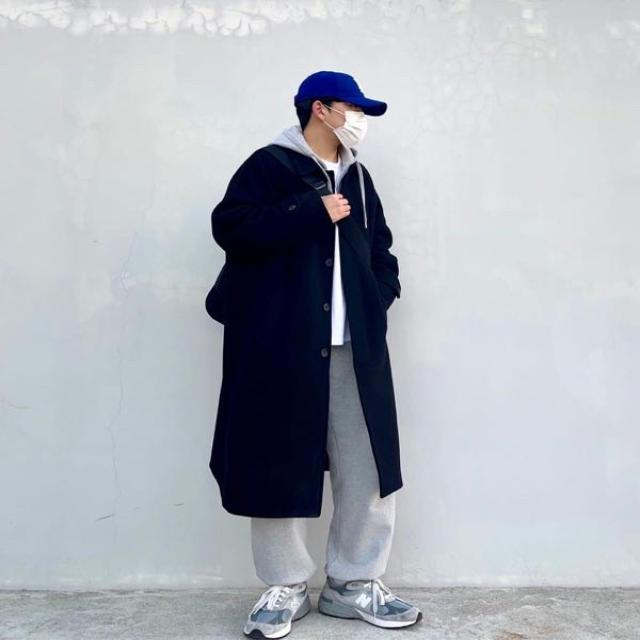coat: (205, 142, 402, 520)
trainingpants: (252, 337, 398, 588)
zipup: (266, 125, 362, 344)
